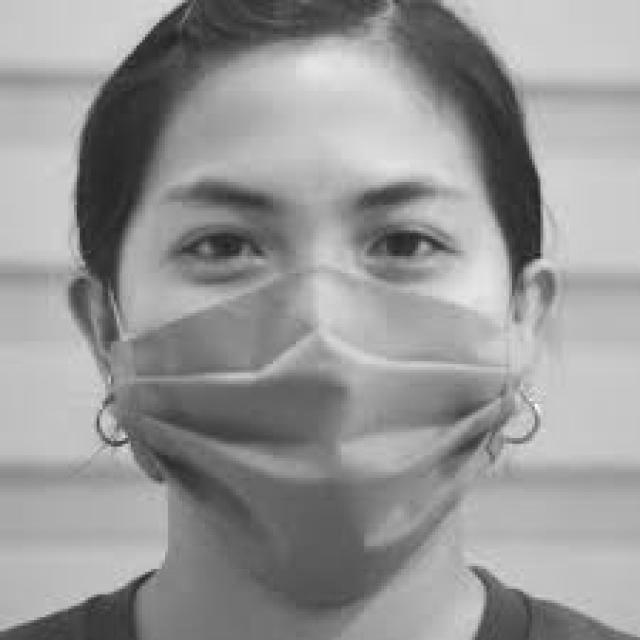fake: (110, 264, 533, 611)
real: (121, 50, 521, 615)
